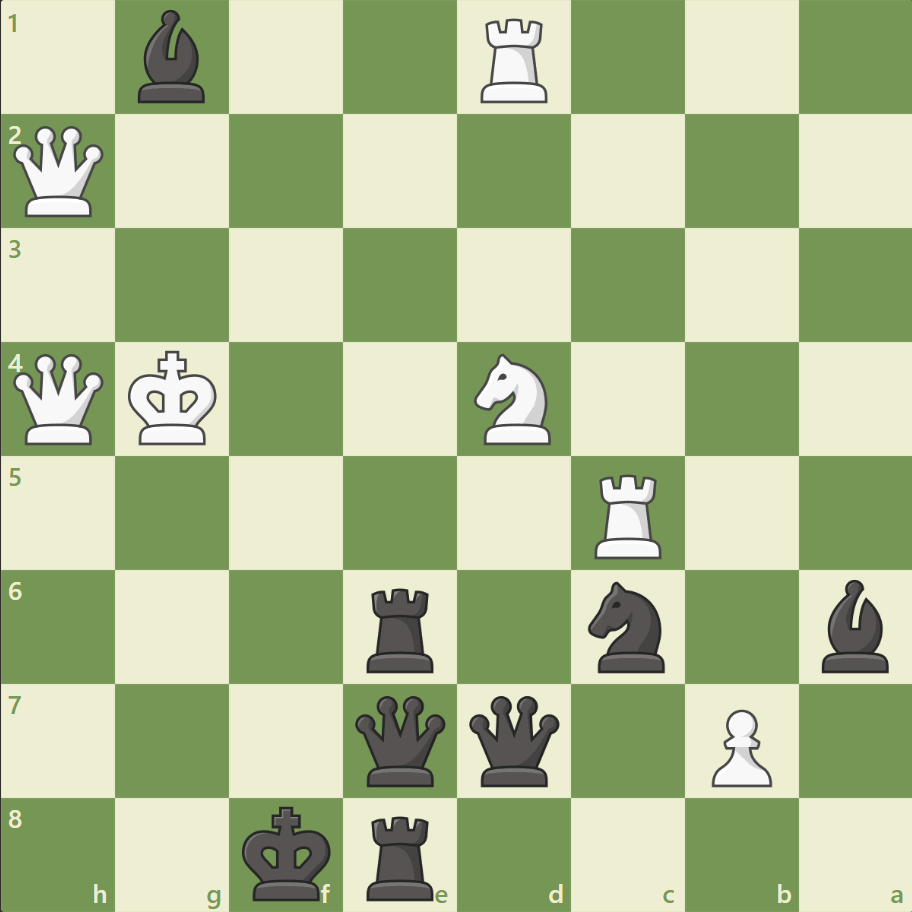K: (124, 344, 224, 452)
N: (465, 348, 562, 450)
P: (701, 700, 776, 791)
Q: (10, 349, 109, 449), (10, 122, 109, 222)
R: (587, 466, 670, 563), (473, 12, 556, 109)
b: (131, 6, 215, 109), (812, 574, 896, 676)
k: (238, 798, 338, 906)
n: (579, 575, 676, 677)
q: (464, 690, 563, 789), (351, 690, 450, 789)
r: (360, 806, 442, 904), (360, 579, 442, 676)
